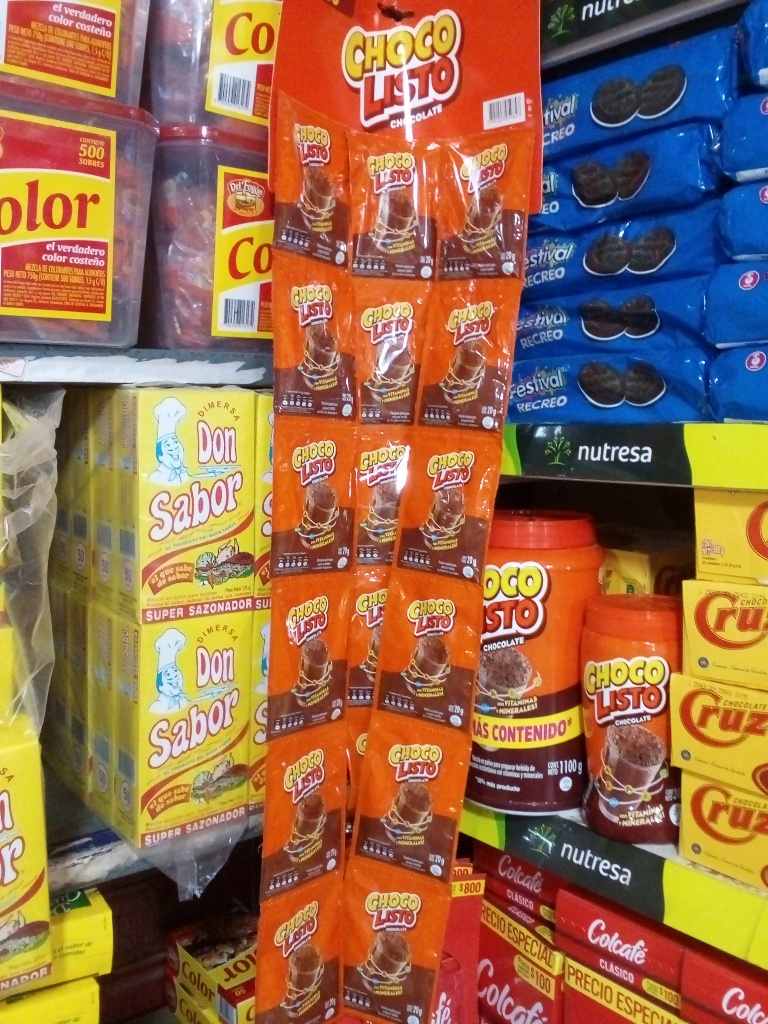COL0170103SOB02000: (269, 81, 349, 270)
COL0170103TRR00100: (475, 519, 600, 821)
